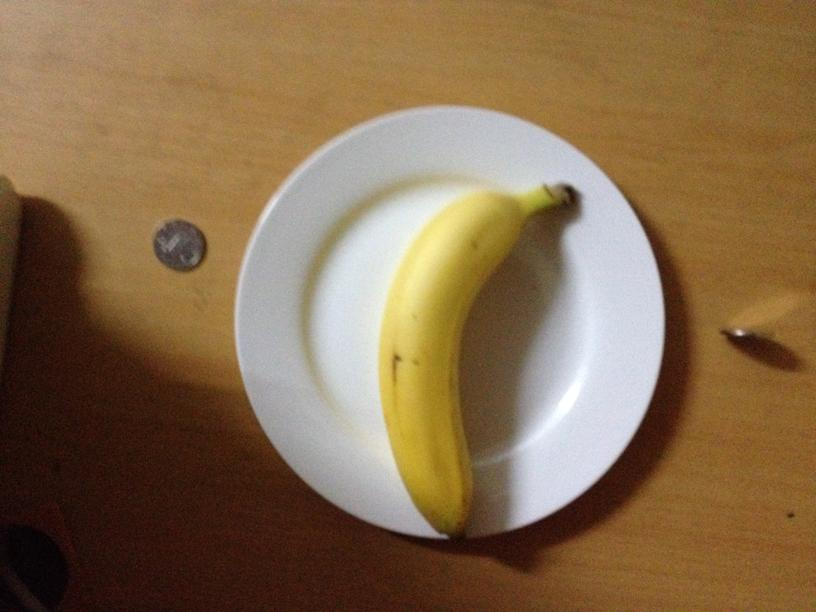banana: (374, 182, 536, 537)
coin: (150, 214, 206, 271)
